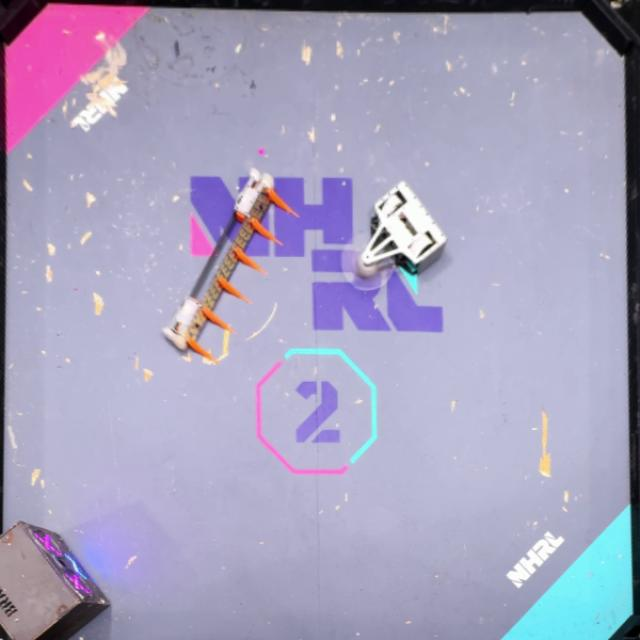housebot: (0, 522, 111, 640)
robot: (162, 171, 300, 362), (344, 179, 449, 291)
